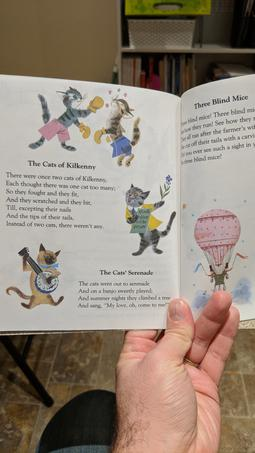text block: (1, 153, 117, 240), (71, 263, 181, 315), (180, 92, 255, 161)
